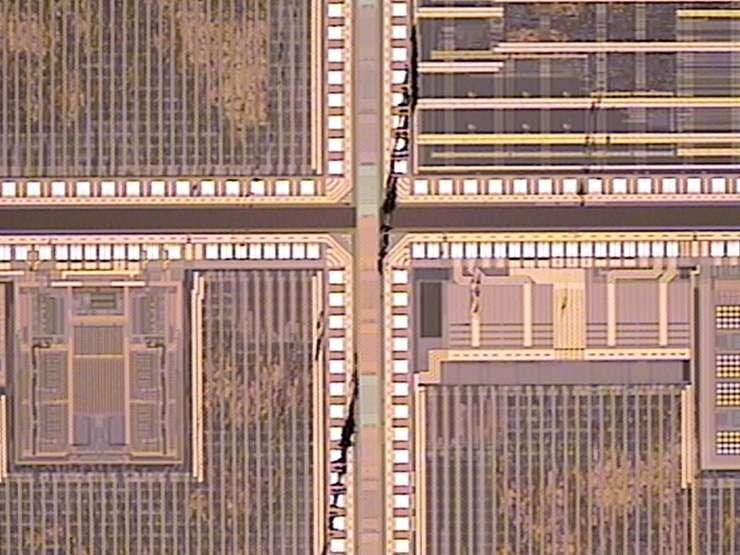SCRATCH: (289, 9, 443, 555), (542, 90, 617, 333)
